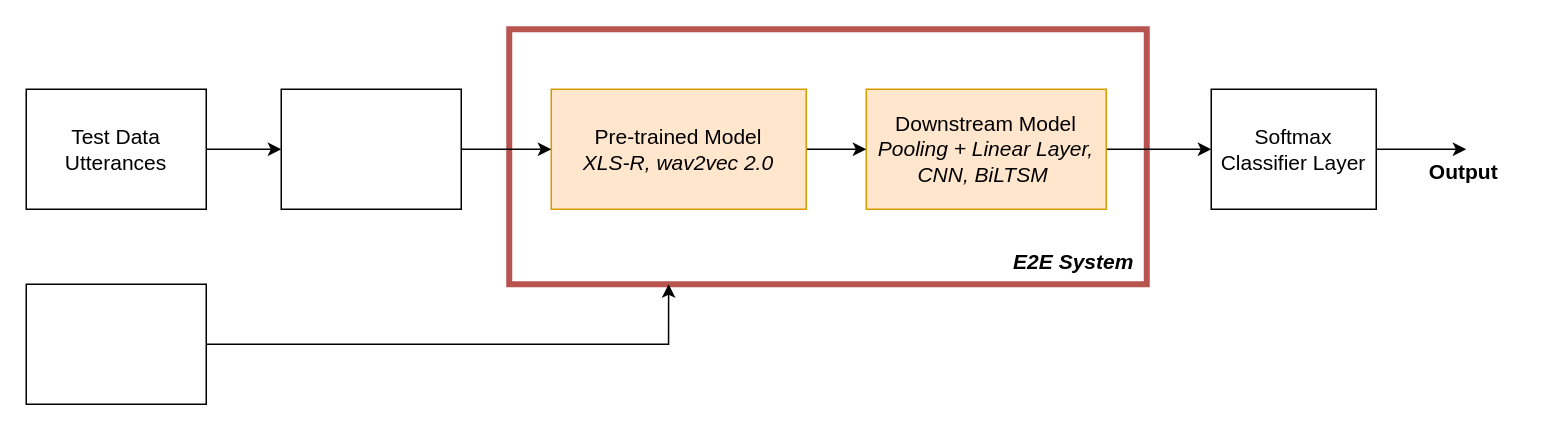
The diagram is 1563 pixels wide and 431 high, and some of its shapes have lost their labels. Here are the shapes that lost their labels. From the top down, the centre of each, then its label:
the point at 370,148: Filtering & Normalisation
the point at 115,343: Training Data Utterances
